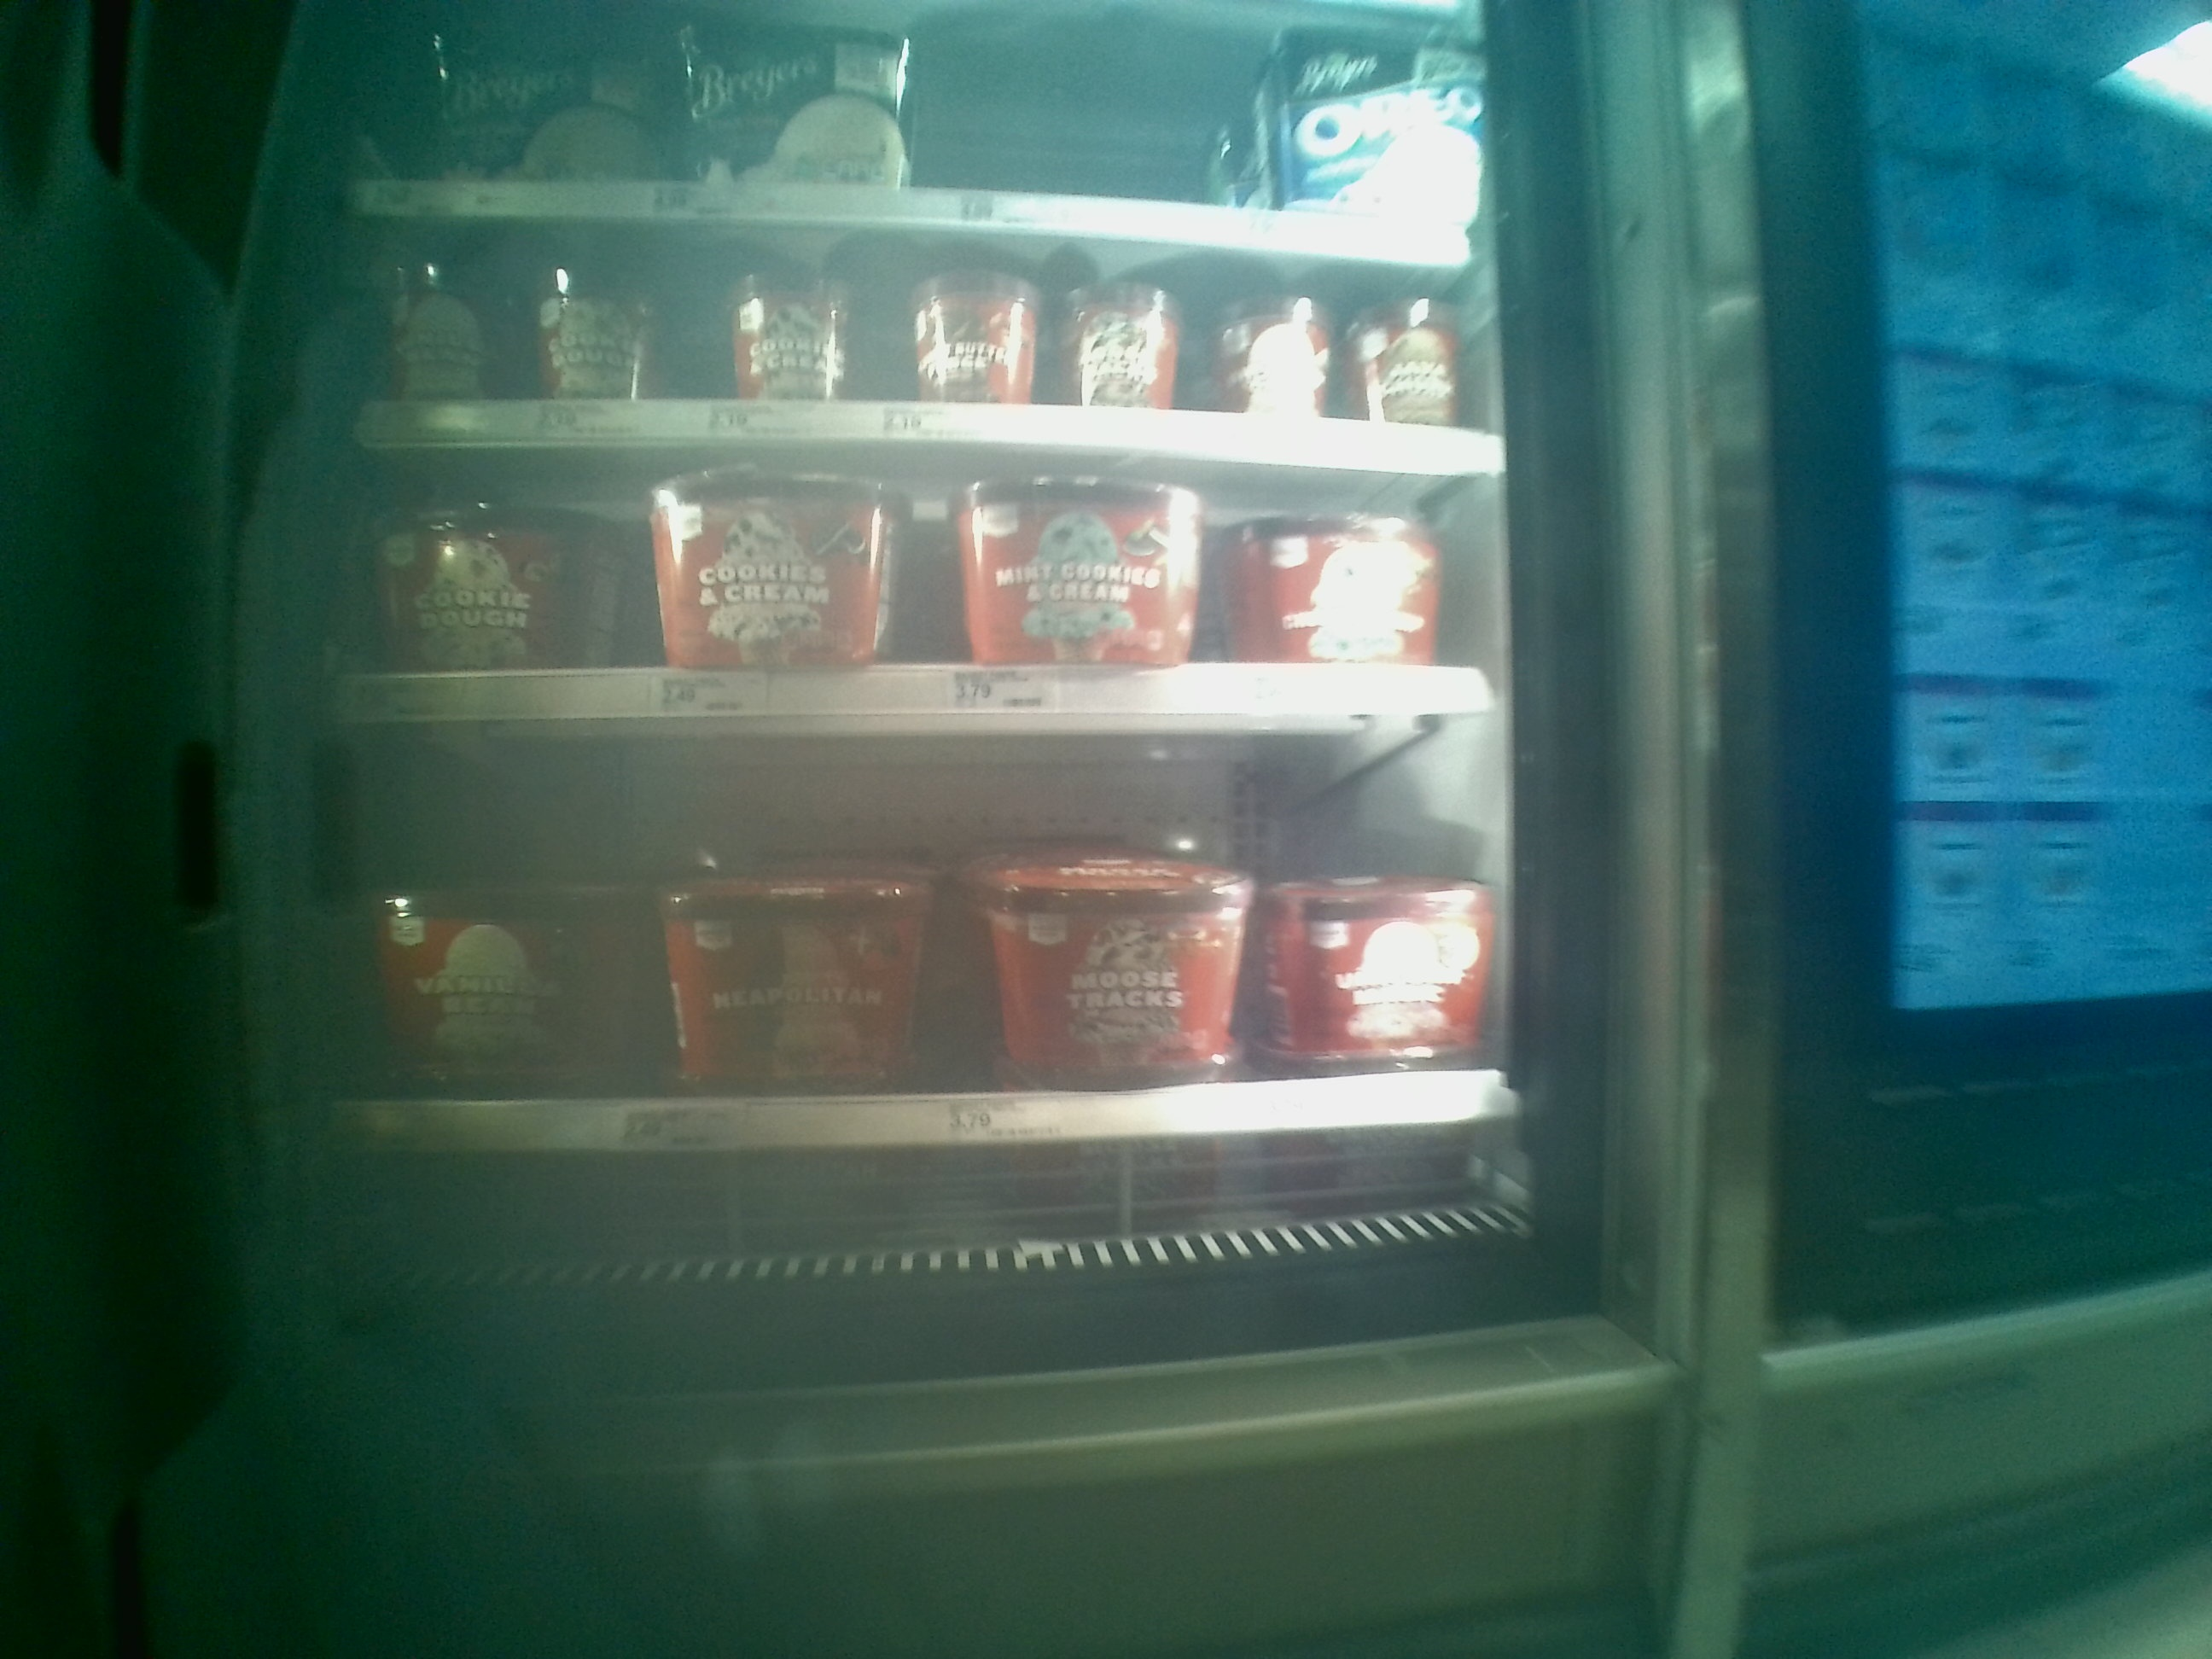shelf: (352, 723, 1524, 1223), (338, 209, 1491, 483), (350, 467, 1503, 716)
